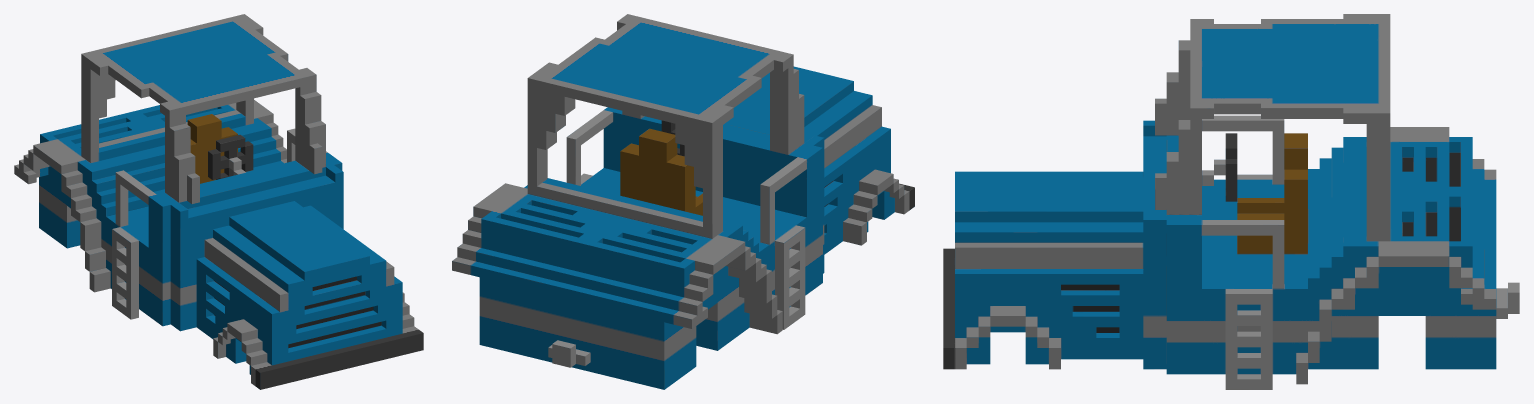
File: Tractor_3.obj
3 renders of one model, left to right at view 1: azimuth 30°, elevation 25°; view 2: azimuth 150°, elevation 25°; view 3: azimuth 270°, elevation 25°, orthographic. The views are drawn at different scales.
Visible parts, largest first — view 1: Tractor_3_Tractor_3.001; view 2: Tractor_3_Tractor_3.001; view 3: Tractor_3_Tractor_3.001.
Boxes of the visible parts, <box> form: Tractor_3_Tractor_3.001: <box>14,14,423,389</box>; Tractor_3_Tractor_3.001: <box>452,14,914,389</box>; Tractor_3_Tractor_3.001: <box>943,14,1519,389</box>.
Size of the model in its own units: 2.6 by 2.5 by 4.9.
